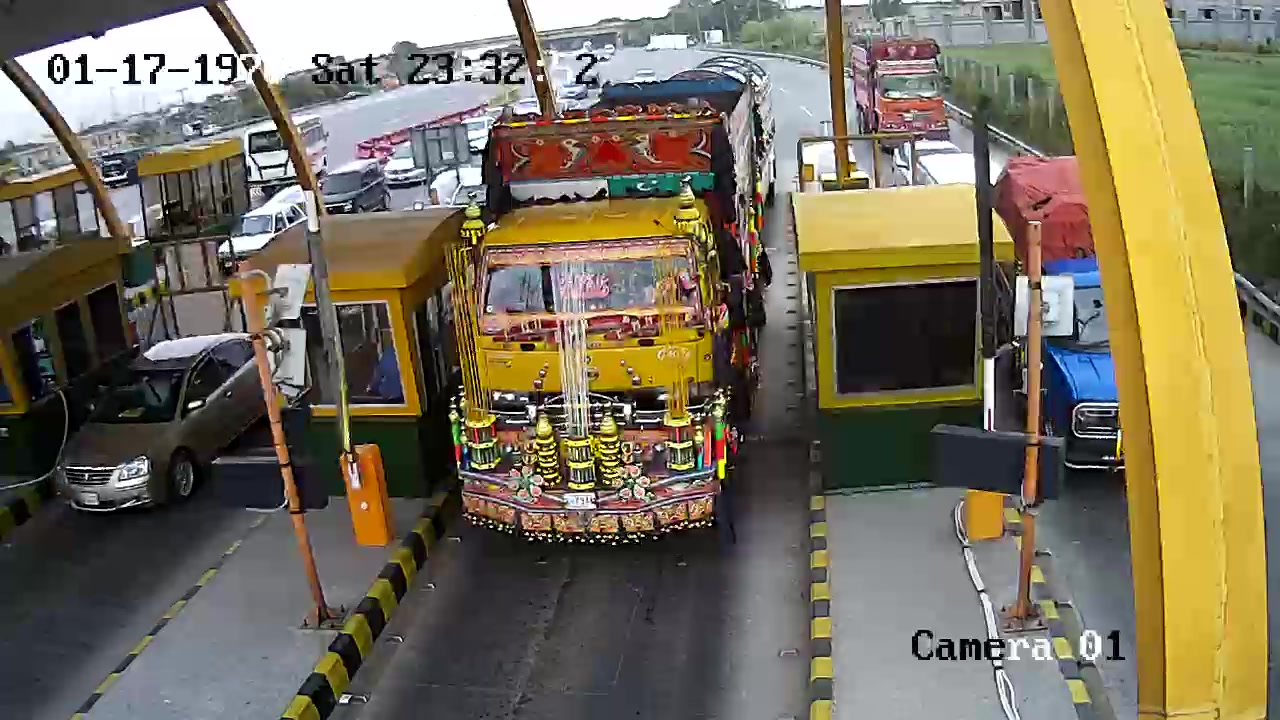F5: (454, 57, 773, 553)
